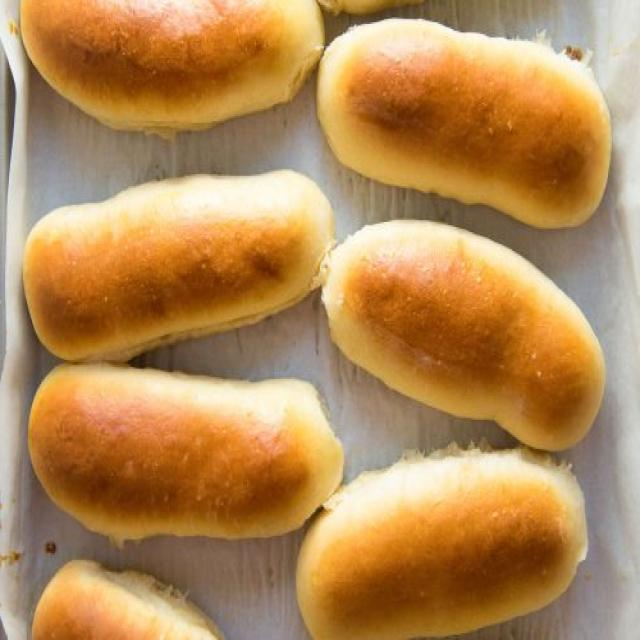Bun: (316, 210, 611, 454), (312, 19, 612, 234), (19, 162, 336, 362), (293, 432, 589, 640), (27, 358, 345, 541), (8, 0, 324, 138), (28, 553, 223, 640)
